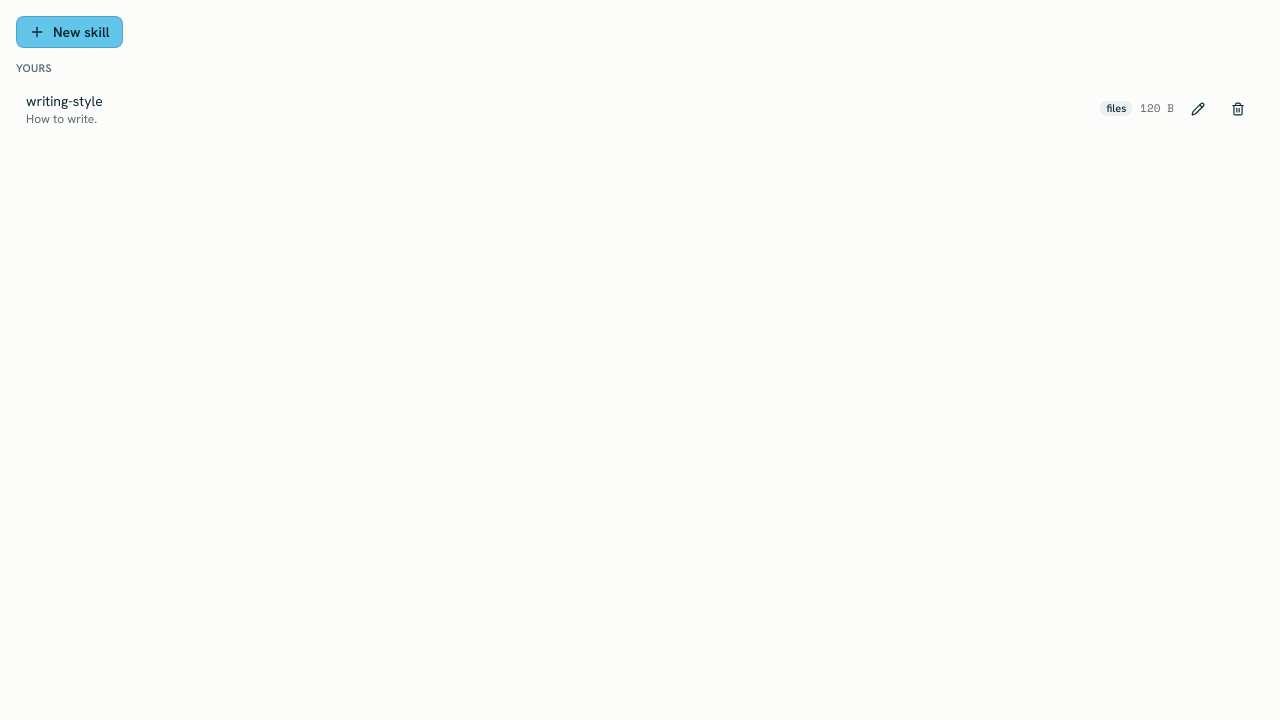
Test: a file that is not text › closes the editor when the re-read after a conflict finds bytes
Click the button named "Edit writing-style" at (1198, 108), box [1182,92,1214,124]
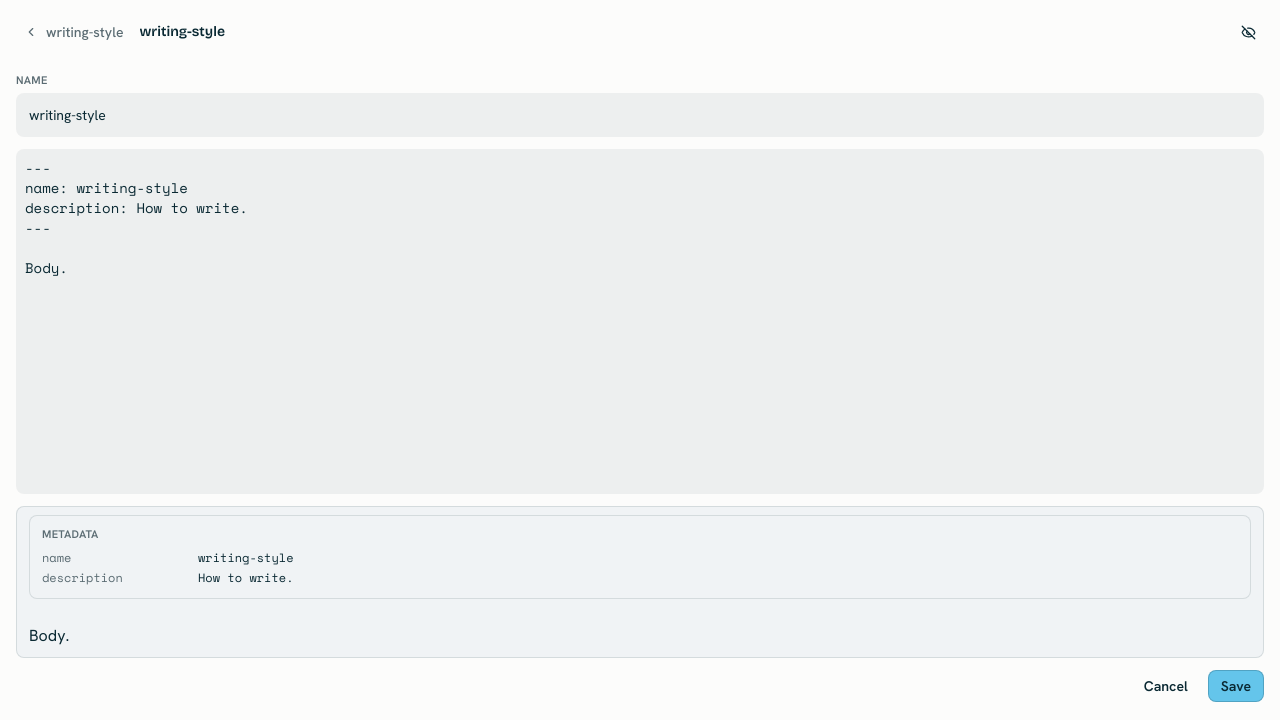
Expected: the text box is shown, [25,158,1255,478]
Click the button "Save" at (1236, 686), box [1208,670,1264,702]
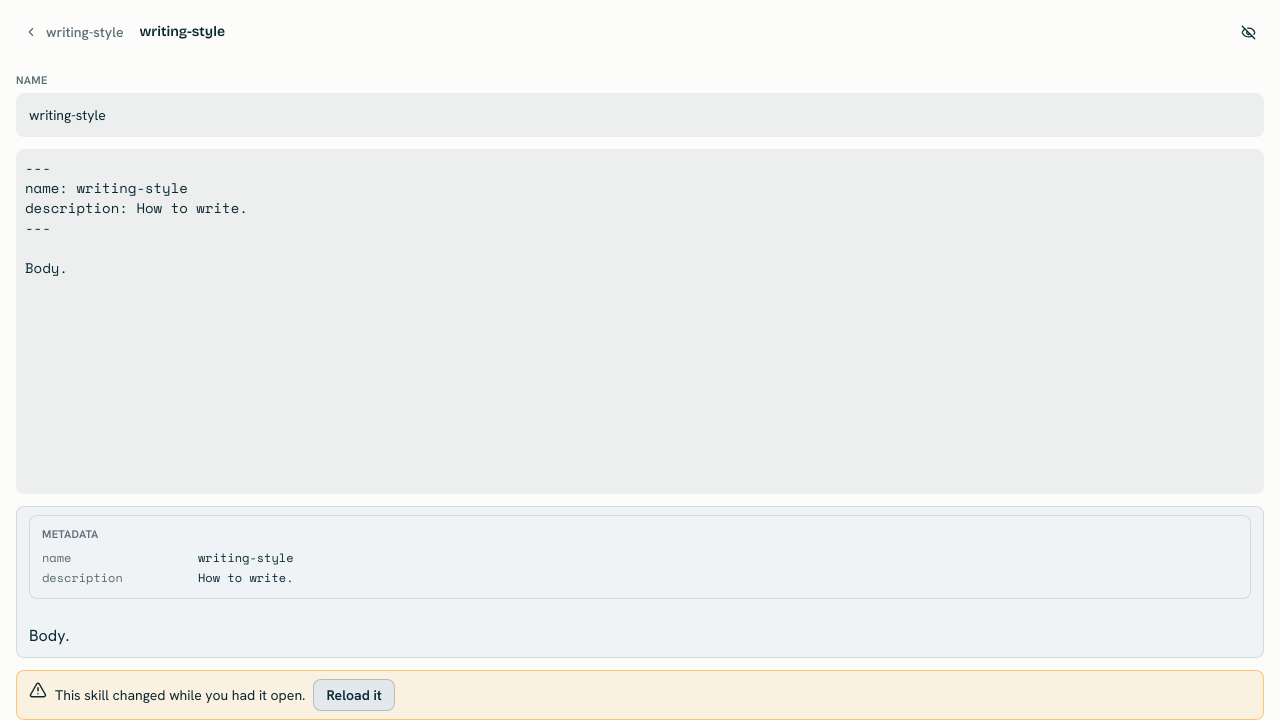
Expected: the button "Reload it" is shown
Click the button "Reload it" at (354, 695), box [313,679,395,711]
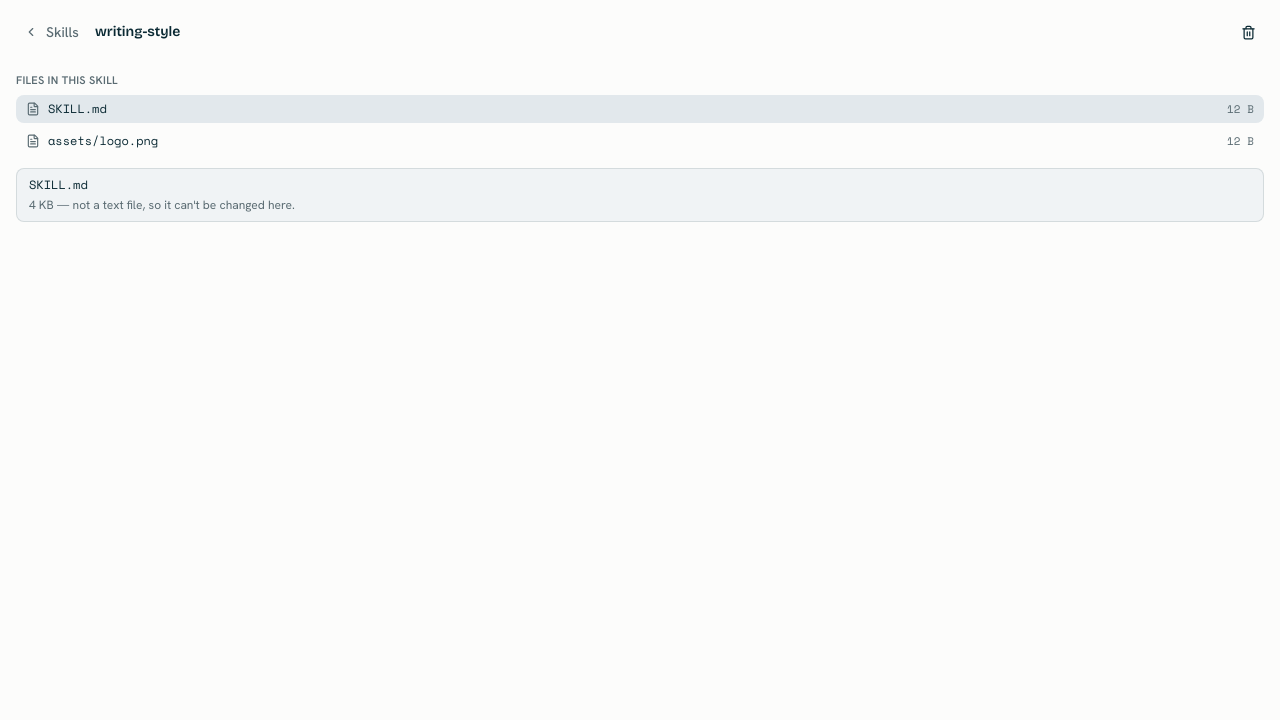
Expected: the text box is gone
Expected: the text "not a text file, so it can't be changed here." is shown, [73,196,295,212]
